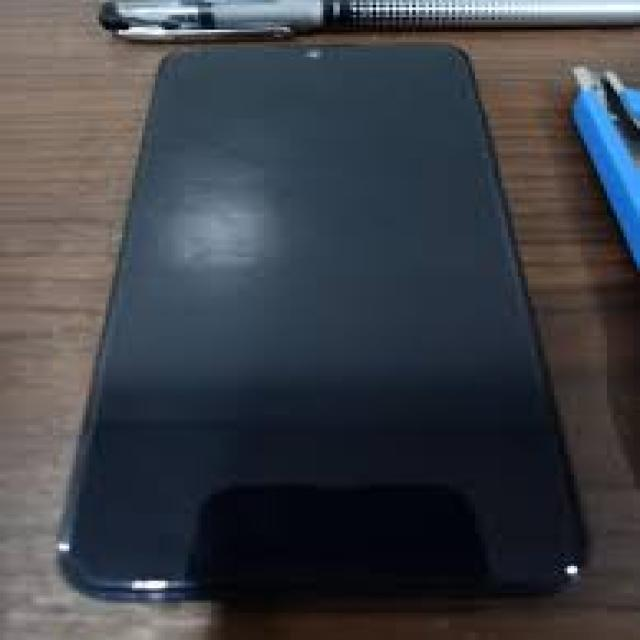mobile phone: (53, 37, 590, 603)
